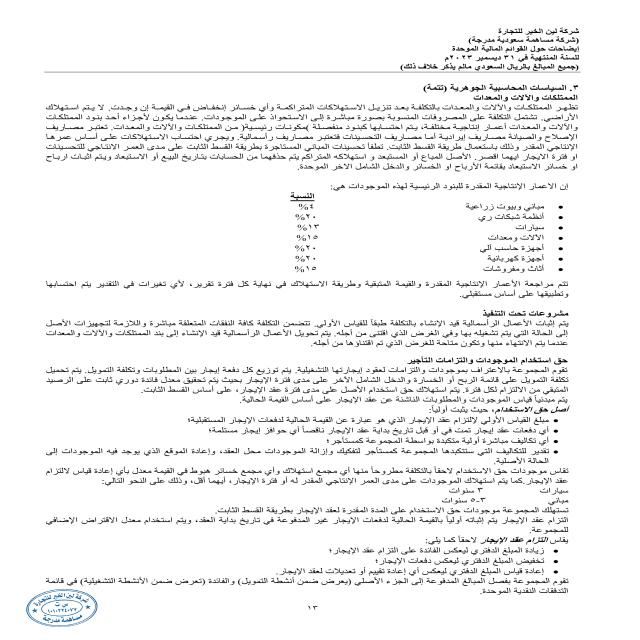notes: (439, 45, 581, 53)
text: (30, 77, 602, 598)
